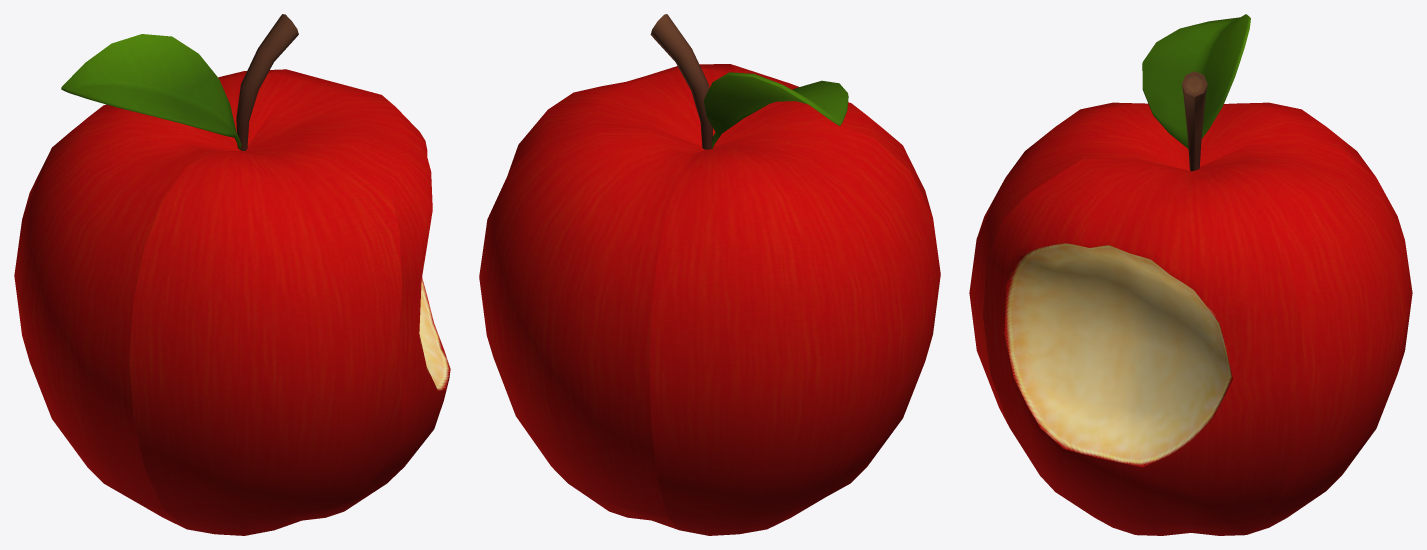
Rendered from BittenApple_1.fbx.
The picture shows the model from 3 angles, left to right: view 1: azimuth 30°, elevation 25°; view 2: azimuth 150°, elevation 25°; view 3: azimuth 270°, elevation 25°; orthographic projection. The views are drawn at different scales.
Parts seen in each view (by area): view 1: BittenApple_1; view 2: BittenApple_1; view 3: BittenApple_1.
Part boxes in pixels (x1,y1,x2,y2): BittenApple_1: (14,14,450,535); BittenApple_1: (479,14,940,535); BittenApple_1: (969,14,1412,535).
Size of the model in its own units: 42.61 by 50.34 by 44.14.
Materials: 1 (1 with a texture image).
